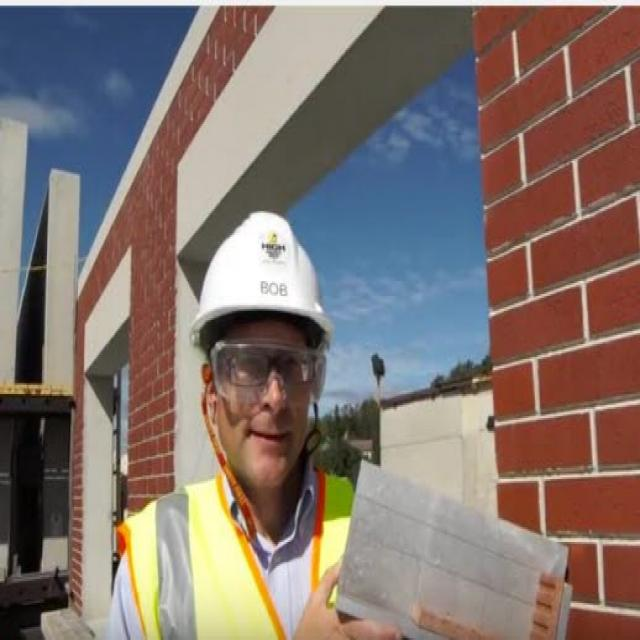Reflective-Jacket: (118, 468, 370, 640)
Safety-Helmet: (189, 204, 339, 354)
